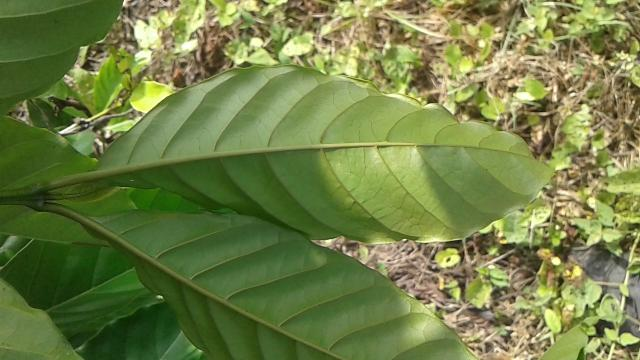healthy: (90, 60, 570, 252)
